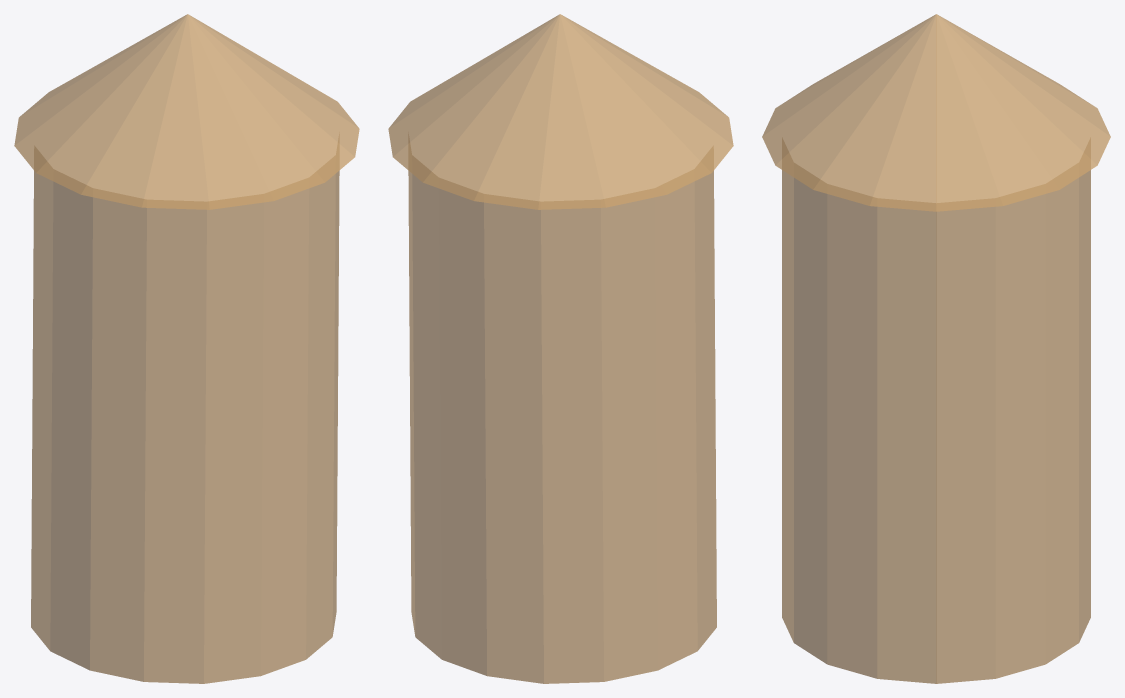
3 renders of one model, left to right at view 1: azimuth 30°, elevation 25°; view 2: azimuth 150°, elevation 25°; view 3: azimuth 270°, elevation 25°, orthographic.
Parts seen in each view (by area): view 1: Cylinder; view 2: Cylinder; view 3: Cylinder.
Part boxes in pixels (bbox=[...]): Cylinder: bbox=[14, 14, 359, 683]; Cylinder: bbox=[388, 14, 733, 683]; Cylinder: bbox=[762, 14, 1110, 683].
Size of the model in its own units: 2.26 by 4.34 by 2.26.
